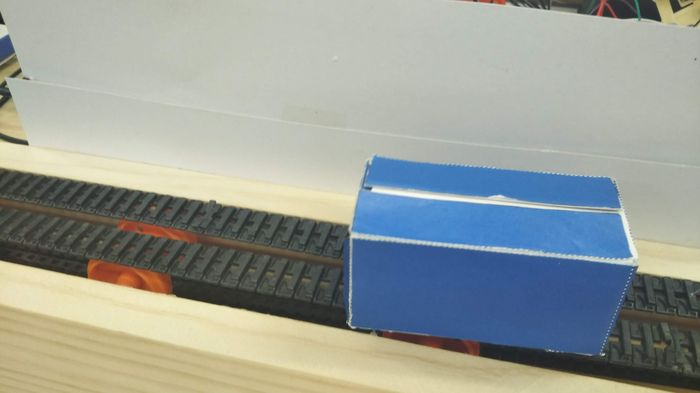box3: (337, 151, 636, 354)
